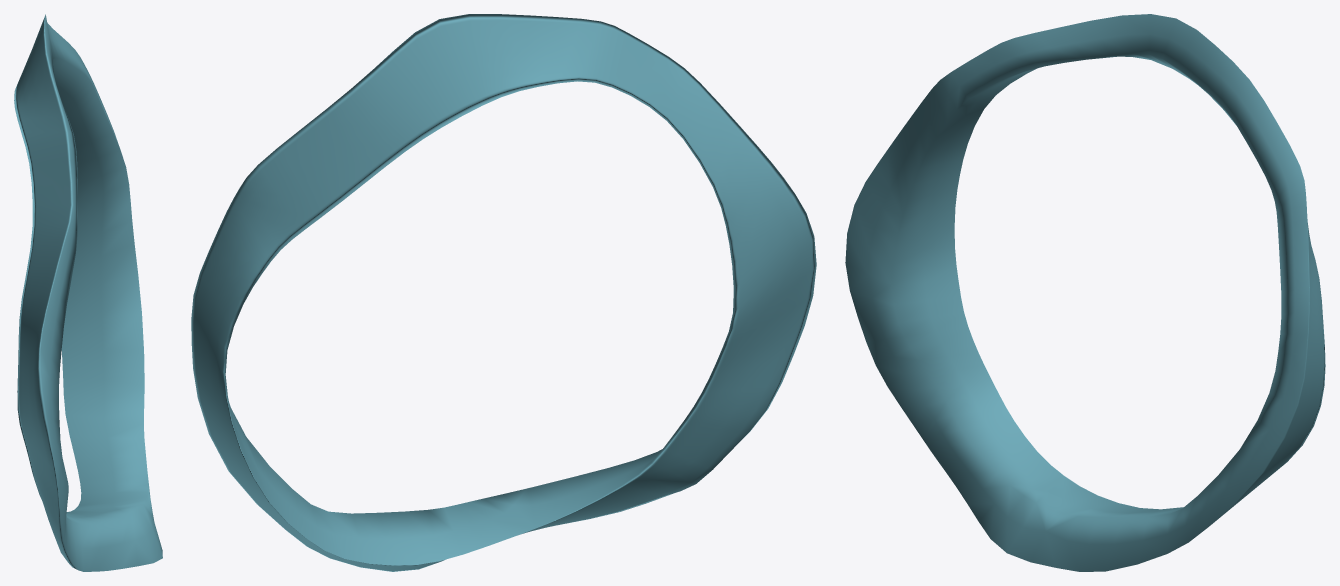
3 views of the same model, side by side, from view 1: azimuth 30°, elevation 25°; view 2: azimuth 150°, elevation 25°; view 3: azimuth 270°, elevation 25° (orthographic). The views are drawn at different scales.
Visible parts, largest first — view 1: 右侧髋臼唇; view 2: 右侧髋臼唇; view 3: 右侧髋臼唇.
Boxes of the visible parts, x1,y1,x2,y2 form: 右侧髋臼唇: (14,14,162,571); 右侧髋臼唇: (191,14,816,571); 右侧髋臼唇: (845,14,1325,571).
Bounding box in the file's own units: 0.052 × 0.0844 × 0.0705.
